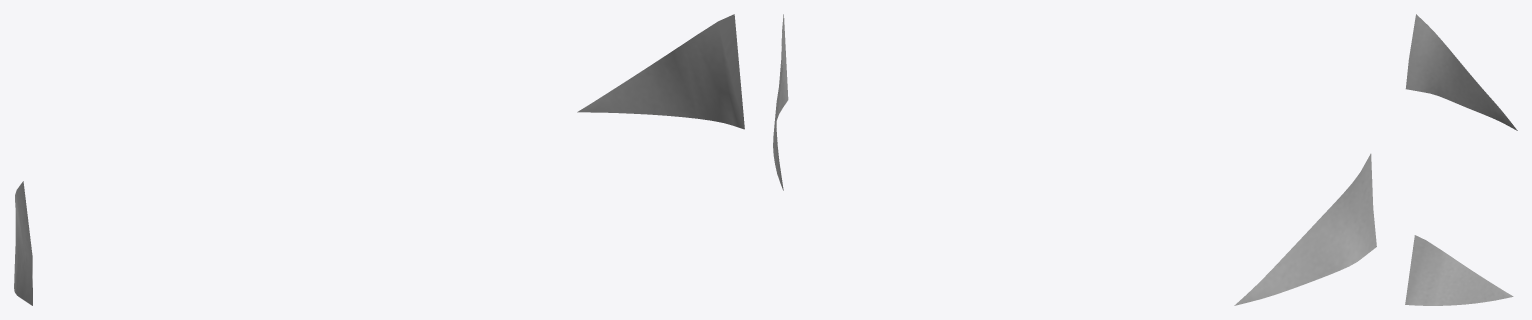
The model's file is Jac_COP_UNDERJac_Back.glb.
3 views of the same model, side by side, from view 1: azimuth 30°, elevation 25°; view 2: azimuth 150°, elevation 25°; view 3: azimuth 270°, elevation 25° (orthographic). The views are drawn at different scales.
Parts seen in each view (by area): view 1: Jac_COP_UNDERJac_Back1; view 2: Jac_COP_UNDERJac_Back1; view 3: Jac_COP_UNDERJac_Back1.
Boxes of the visible parts, <box> form: Jac_COP_UNDERJac_Back1: <box>14,14,744,305</box>; Jac_COP_UNDERJac_Back1: <box>773,14,1376,305</box>; Jac_COP_UNDERJac_Back1: <box>1405,14,1517,305</box>.
Size of the model in its own units: 0.6484 by 0.1263 by 0.1415.
Materials: 1 (1 with a texture image).
